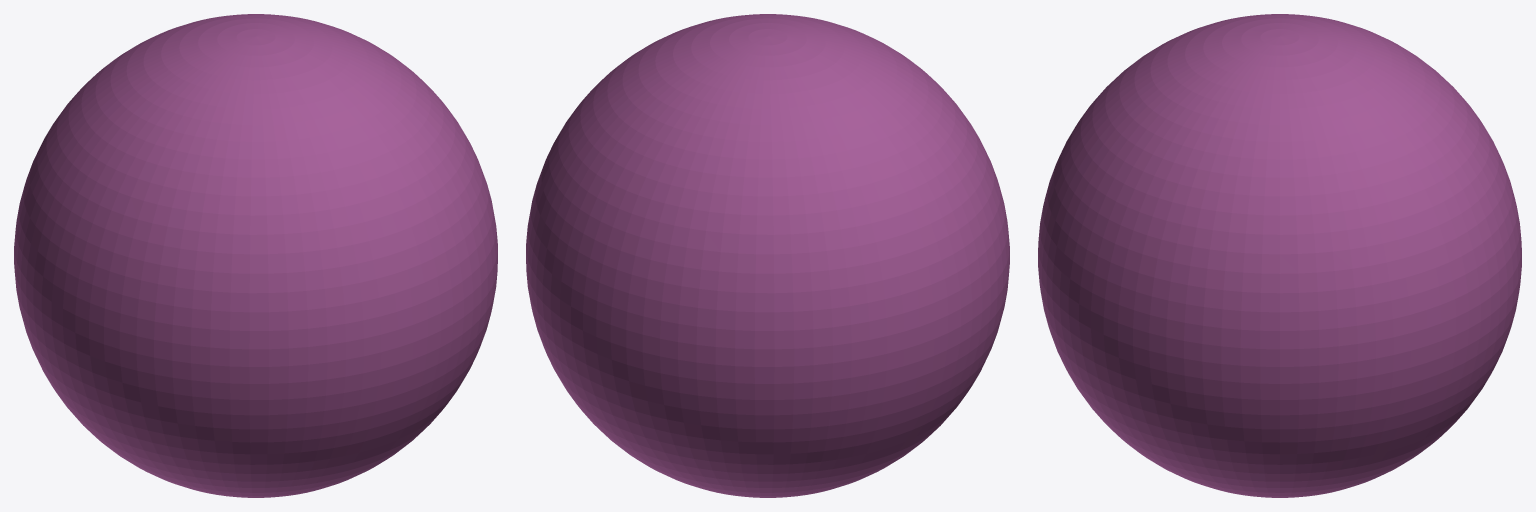
The model's file is ball_empty.dae.
3 renders of one model, left to right at view 1: azimuth 30°, elevation 25°; view 2: azimuth 150°, elevation 25°; view 3: azimuth 270°, elevation 25°, orthographic.
Visible parts, largest first — view 1: Abu2024_field - Ball_blue-1; view 2: Abu2024_field - Ball_blue-1; view 3: Abu2024_field - Ball_blue-1.
Part boxes in pixels (x1,y1,x2,y2): Abu2024_field - Ball_blue-1: (14, 14, 497, 497); Abu2024_field - Ball_blue-1: (526, 14, 1009, 497); Abu2024_field - Ball_blue-1: (1038, 14, 1521, 497).
Bounding box in the file's own units: 0.1898 × 0.1898 × 0.19.
